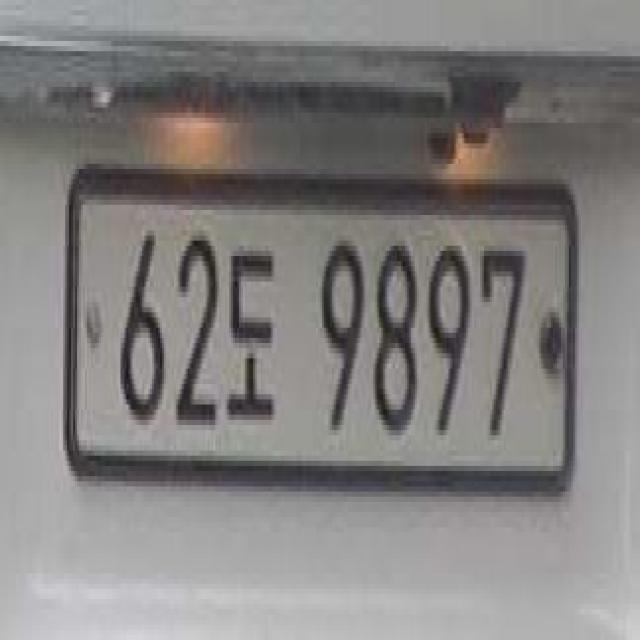2: (172, 229, 219, 429)
6: (117, 222, 165, 423)
7: (478, 234, 530, 449)
8: (369, 230, 418, 432)
9: (313, 220, 367, 430), (426, 234, 472, 438)
do: (226, 235, 280, 434)
license_plate: (58, 146, 582, 502)
